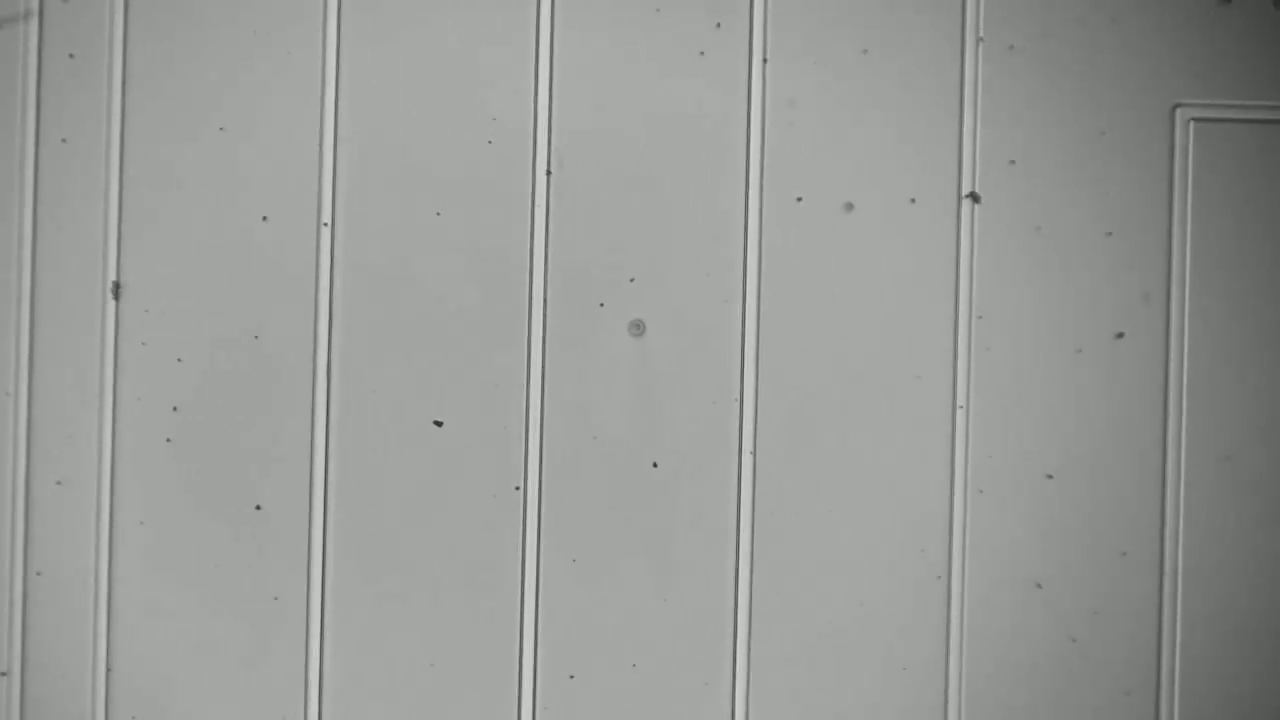stains_enbedded: (97, 275, 125, 306), (958, 186, 985, 210)
